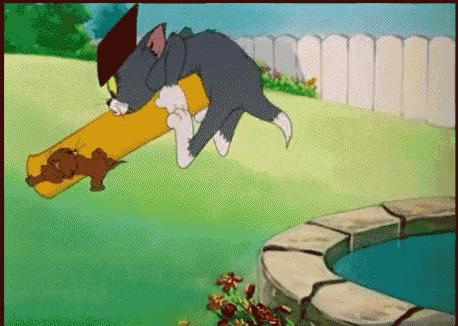jerry: (24, 146, 128, 194)
